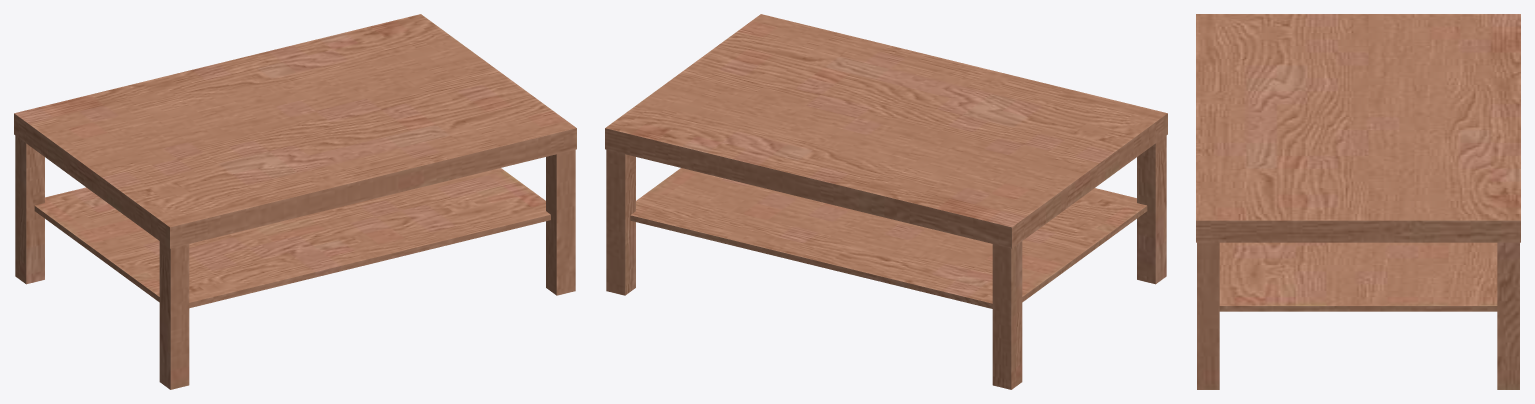
Rendered from Table33.glb.
The picture shows the model from 3 angles, left to right: view 1: azimuth 30°, elevation 25°; view 2: azimuth 150°, elevation 25°; view 3: azimuth 270°, elevation 25°; orthographic projection. The views are drawn at different scales.
Parts seen in each view (by area): view 1: Table33_model; view 2: Table33_model; view 3: Table33_model.
Part boxes in pixels (x1,y1,x2,y2): Table33_model: (14,14,576,389); Table33_model: (605,14,1167,389); Table33_model: (1196,14,1520,389).
Bounding box in the file's own units: 2.5 × 0.9567 × 1.66.
Materials: 1 (1 with a texture image).
